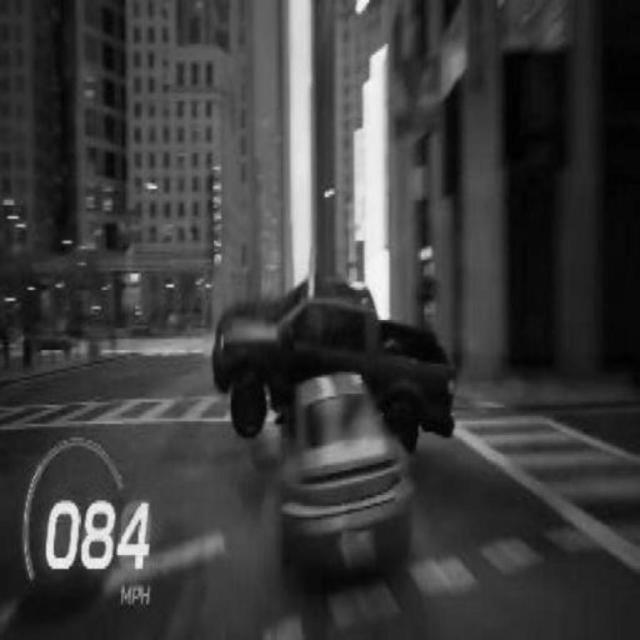accident: (212, 278, 460, 576)
